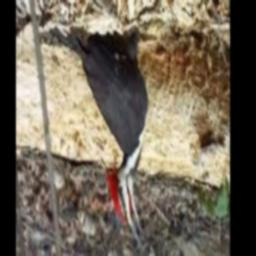Woodpecker: (49, 27, 149, 246)
